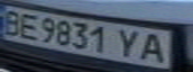1: (87, 22, 112, 54)
3: (69, 20, 90, 52)
8: (54, 18, 72, 47)
9: (33, 15, 60, 45)
A: (136, 30, 172, 64)
B: (0, 7, 27, 37)
E: (15, 11, 42, 40)
Y: (115, 26, 145, 60)
